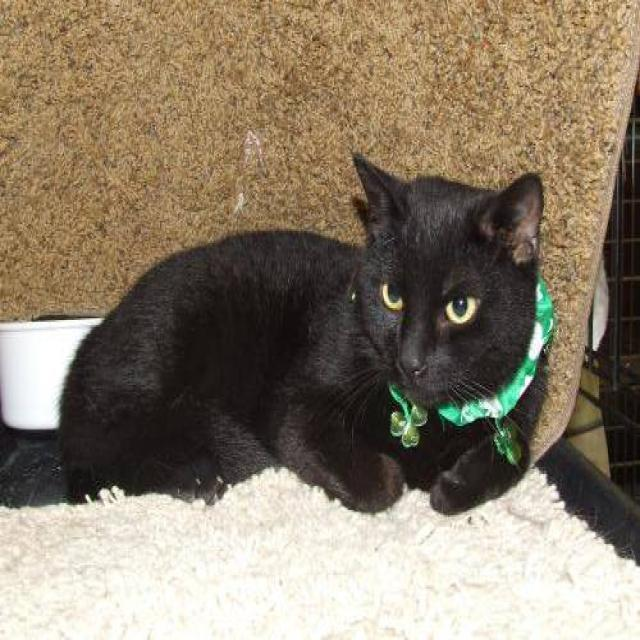cat: (39, 129, 564, 541)
